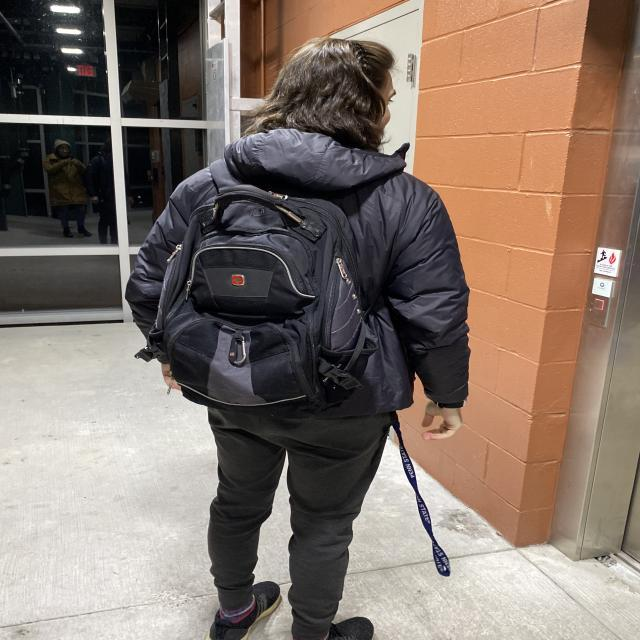Backpacks: (154, 184, 379, 415)
